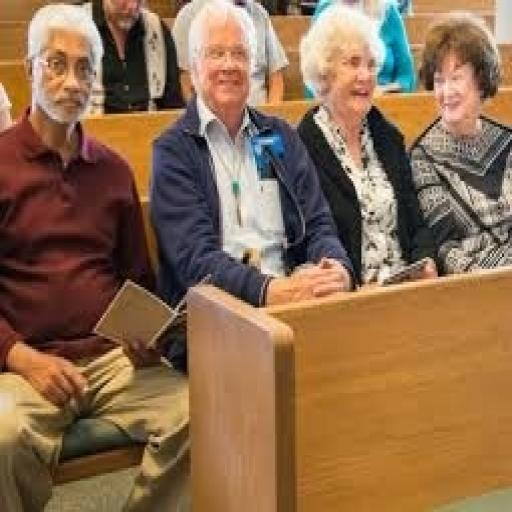sitting: (0, 0, 190, 509), (146, 0, 355, 310), (293, 3, 438, 287), (406, 10, 510, 277), (84, 0, 183, 114)
